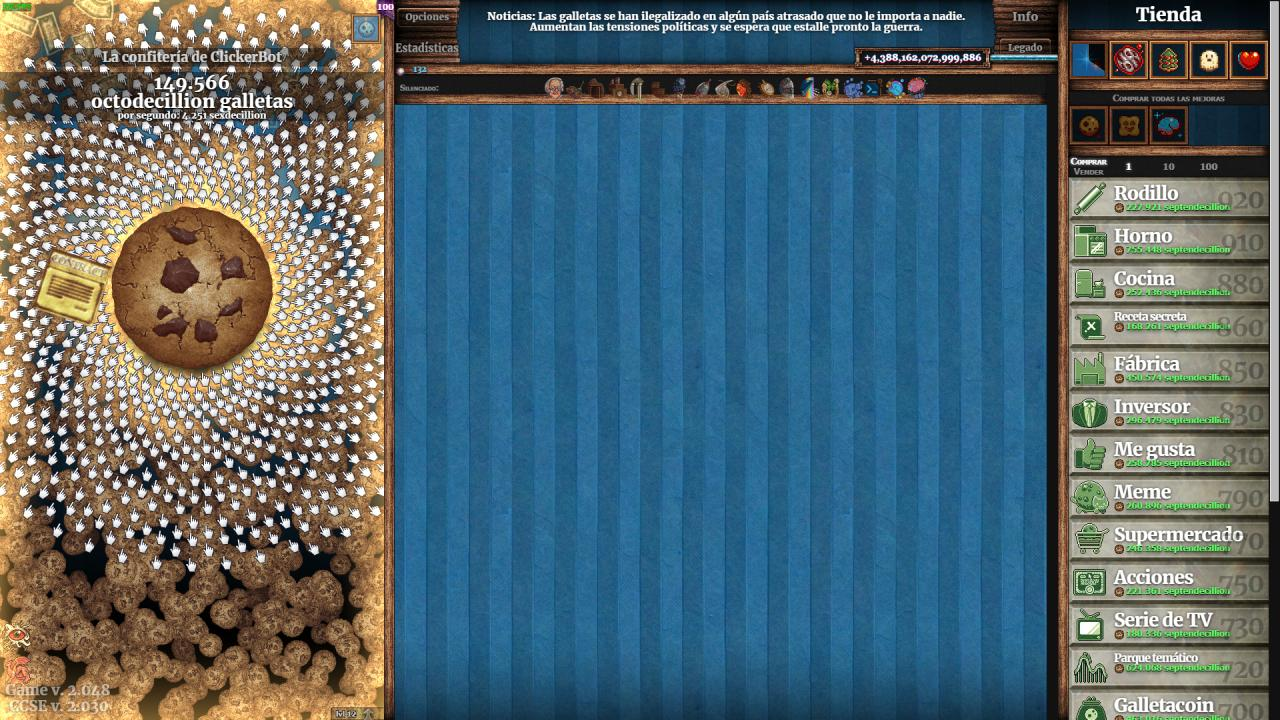GoldenCartridge: (33, 247, 113, 328)
